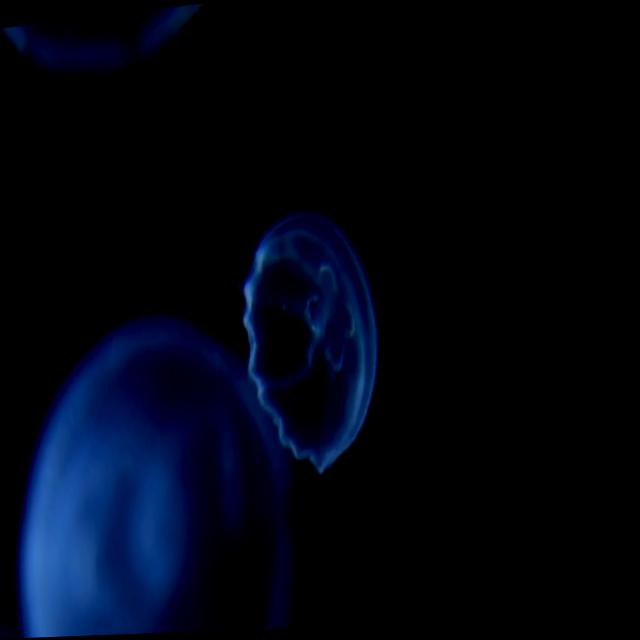Moon-jellyfish: (11, 298, 308, 639), (240, 206, 384, 474), (0, 2, 211, 87)
